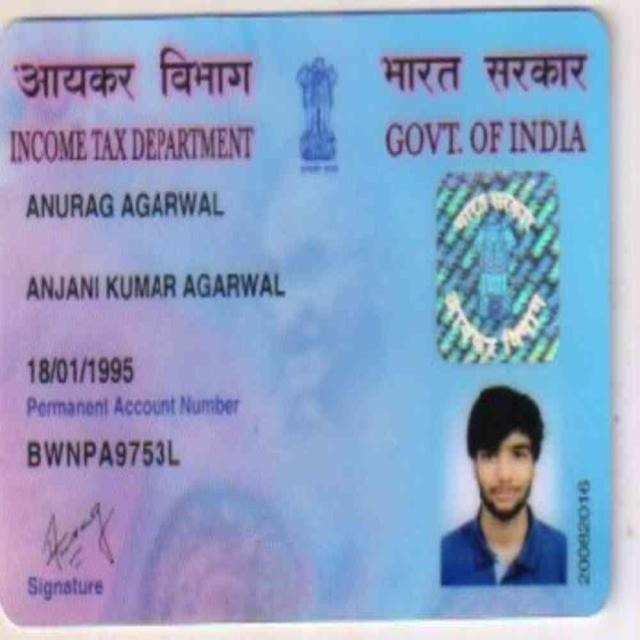pan_card: (0, 22, 610, 620)
